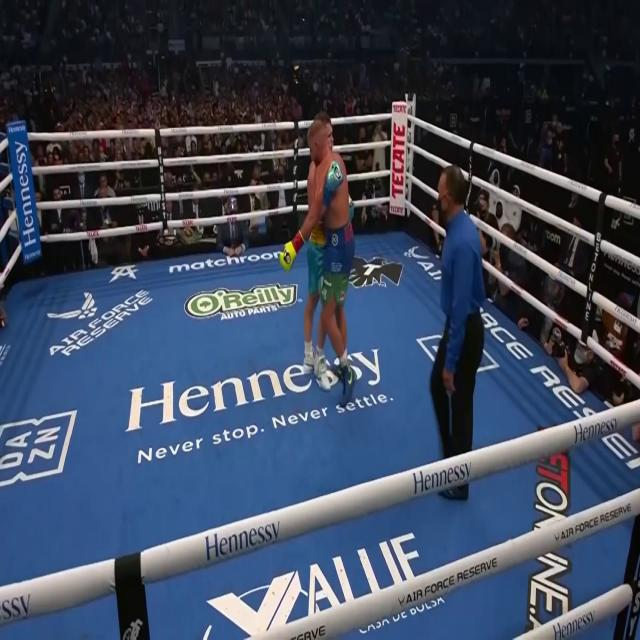boxer_1: (300, 122, 350, 239)
boxer_2: (307, 158, 317, 205), (319, 111, 333, 133), (331, 142, 334, 149)
gloves_1: (279, 240, 297, 270)
gloves_2: (323, 159, 344, 205)
